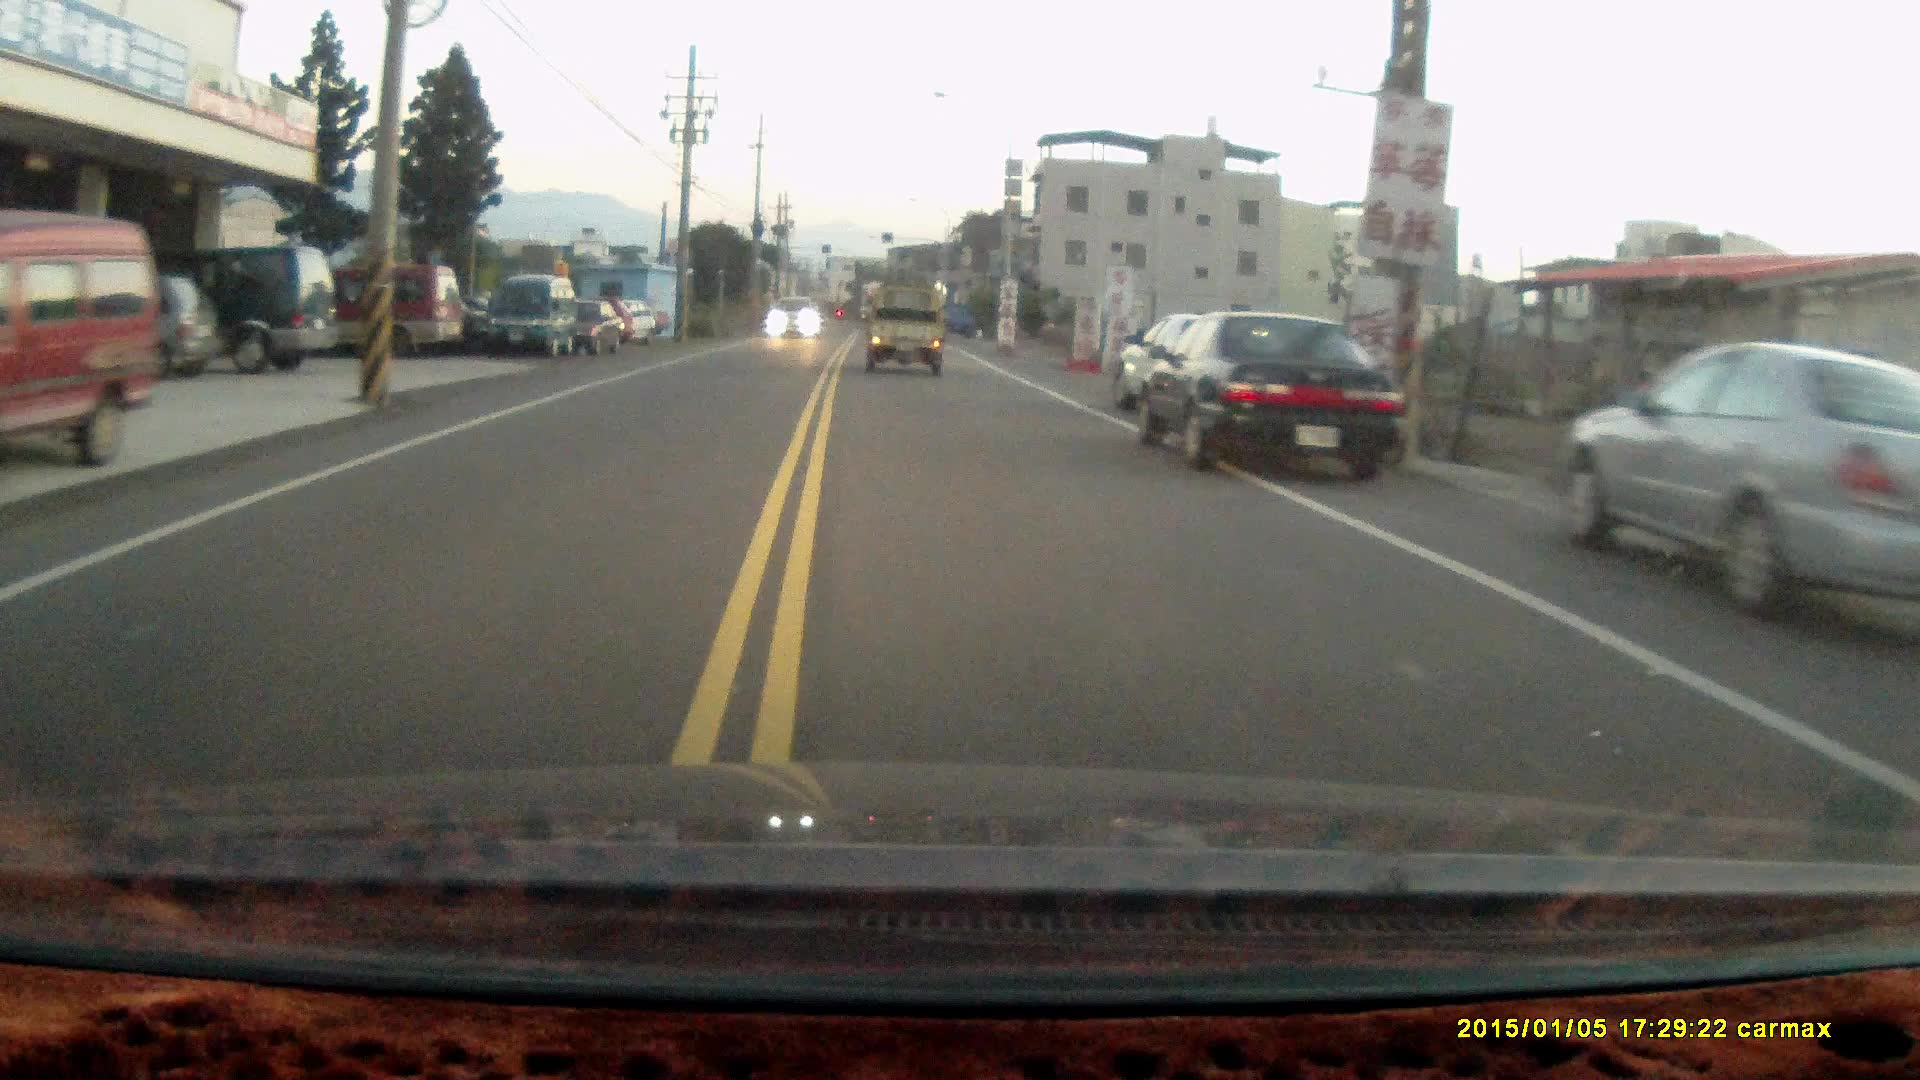vehicle: (1563, 340, 1920, 650), (1130, 311, 1404, 489), (3, 220, 160, 481), (103, 243, 343, 371), (1114, 318, 1298, 430), (276, 270, 465, 364), (480, 284, 579, 368), (862, 291, 949, 384), (551, 303, 626, 361), (764, 303, 822, 345)
